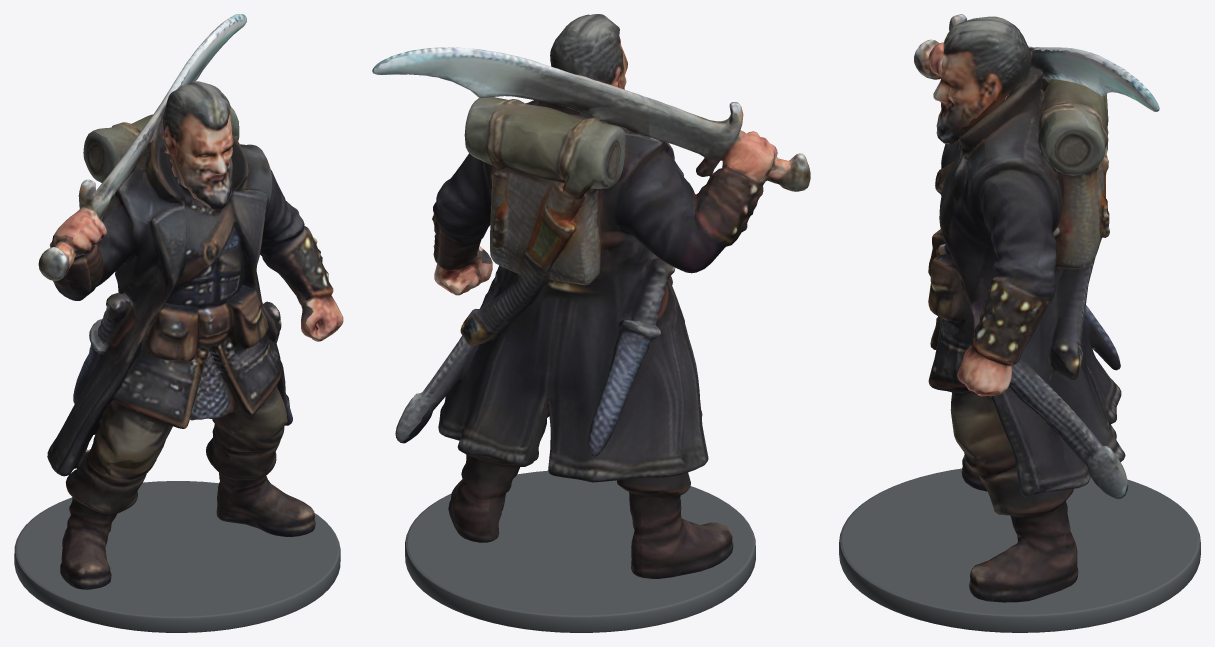
Rendered from bandit-captain.glb.
3 views of the same model, side by side, from view 1: azimuth 30°, elevation 25°; view 2: azimuth 150°, elevation 25°; view 3: azimuth 270°, elevation 25° (orthographic). The views are drawn at different scales.
Parts seen in each view (by area): view 1: bandit-captain_body, bandit-captain_round_base; view 2: bandit-captain_body, bandit-captain_round_base; view 3: bandit-captain_body, bandit-captain_round_base.
Part boxes in pixels (<box>): bandit-captain_body: <box>38,14,343,589</box>; bandit-captain_round_base: <box>14,481,340,632</box>; bandit-captain_body: <box>372,14,810,578</box>; bandit-captain_round_base: <box>405,470,755,632</box>; bandit-captain_body: <box>914,14,1159,602</box>; bandit-captain_round_base: <box>839,468,1200,632</box>.
Size of the model in its own units: 1.14 by 1.65 by 1.
2 materials, 1 textured.
